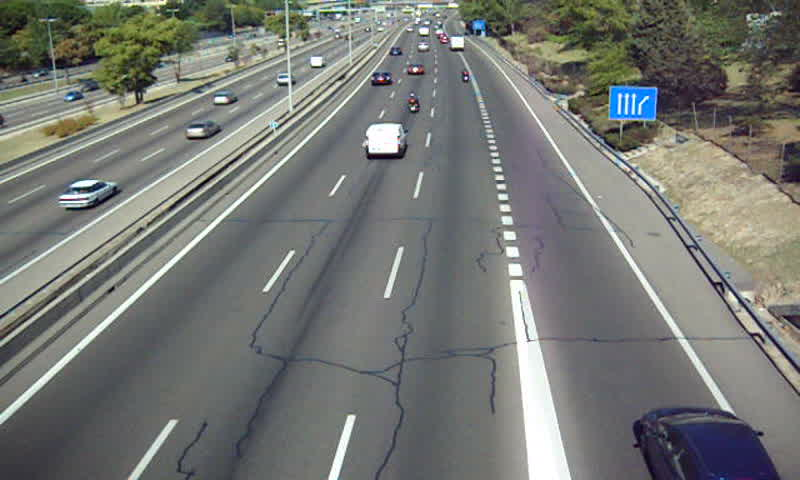car: (637, 406, 780, 480), (368, 70, 393, 88), (405, 64, 423, 77)
motorcycle: (404, 93, 420, 115), (461, 68, 471, 86)
van: (366, 123, 406, 160), (451, 34, 465, 52)
